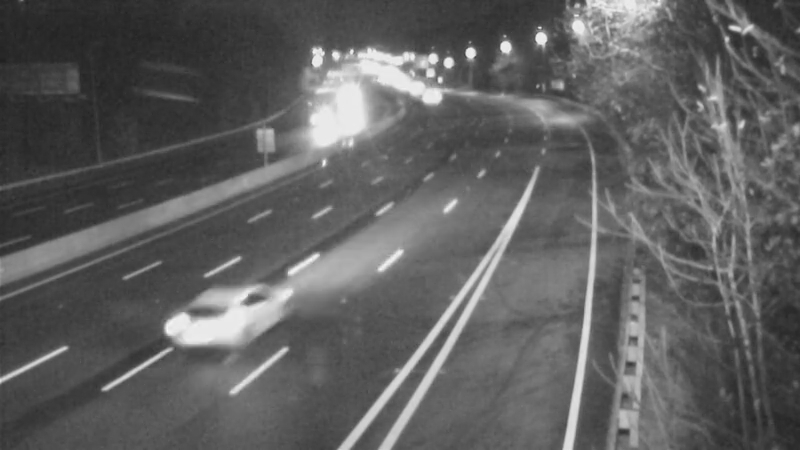vehicle: (150, 275, 260, 385), (412, 63, 462, 113), (303, 101, 353, 151)
